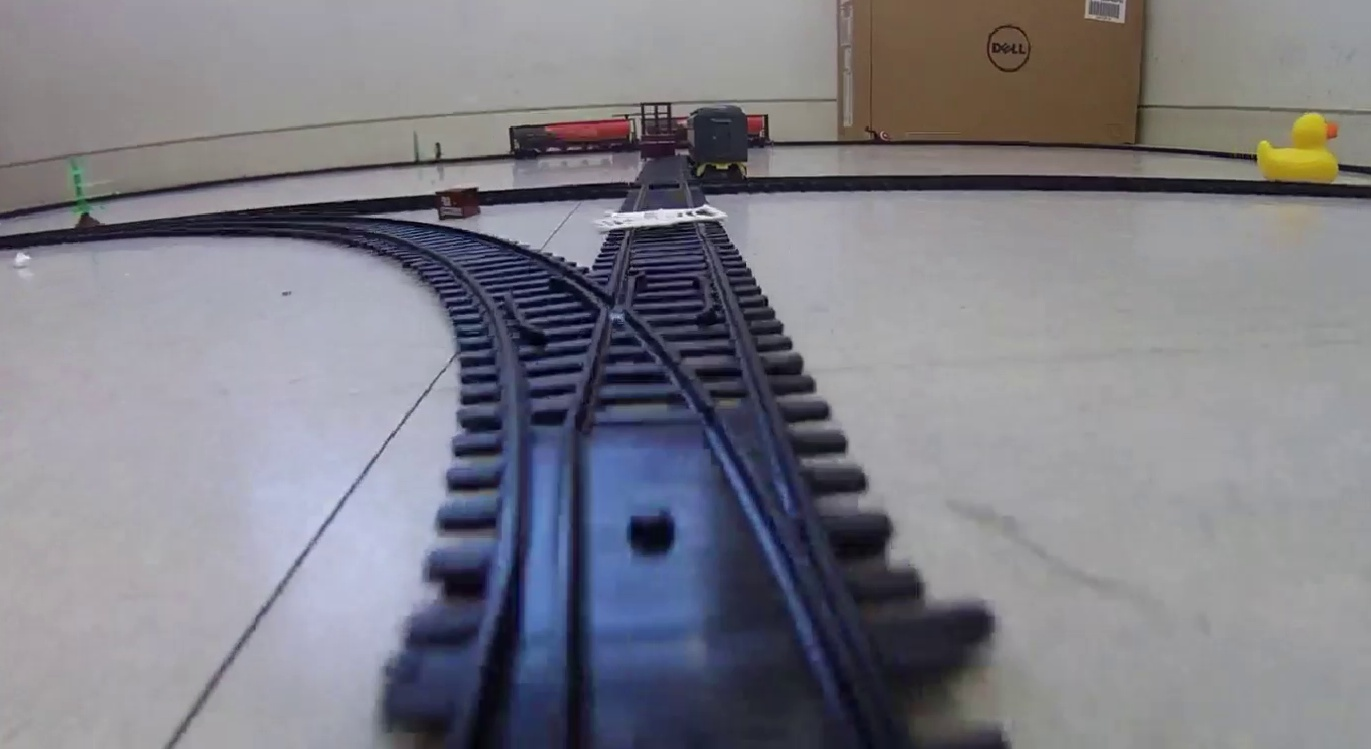box: (434, 187, 481, 221)
web: (591, 203, 727, 233)
